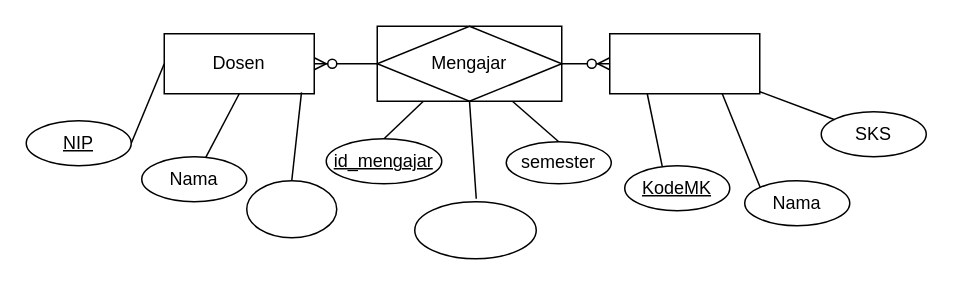
The diagram is 953 pixels wide and 285 high, and some of its shapes have lost their labels. The shapes that lost their labels are listed below. From the top down, each one's centre as x and y in pixels, then its label:
[684,63]: Matakuliah
[291,208]: Email
[474,229]: tahun
